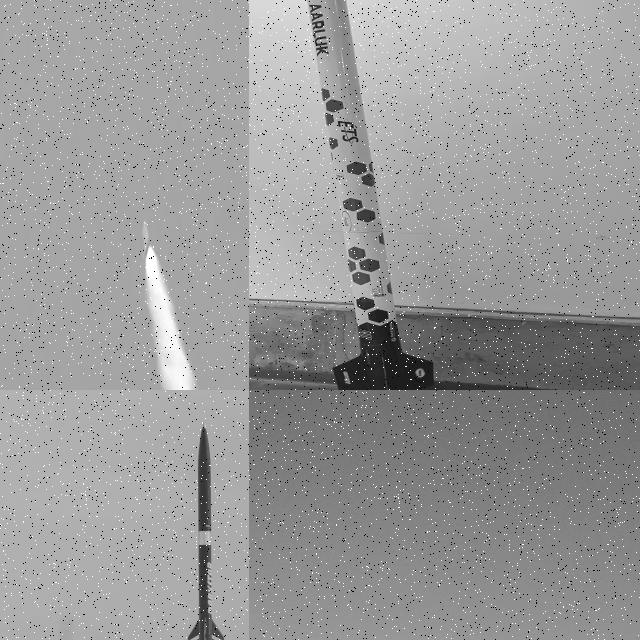Rocket: (306, 0, 435, 390), (186, 421, 226, 640), (142, 219, 153, 263)
